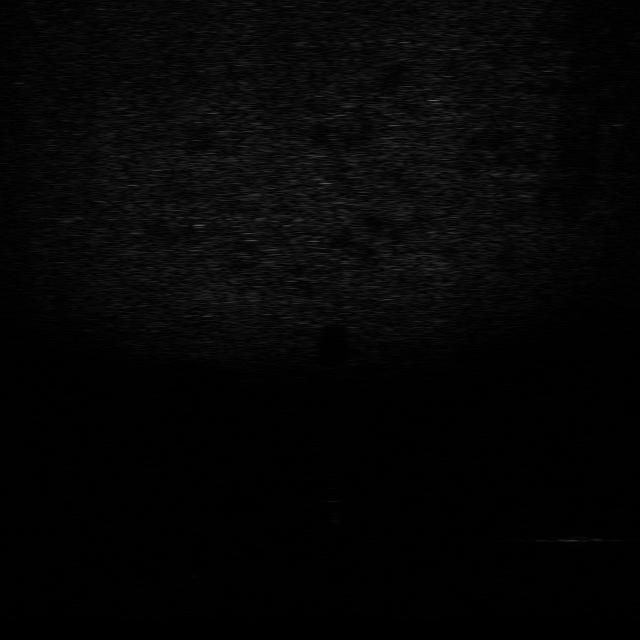ball: (314, 478, 352, 504)
metal bucket: (528, 530, 618, 547)
tyre: (168, 553, 212, 583)
